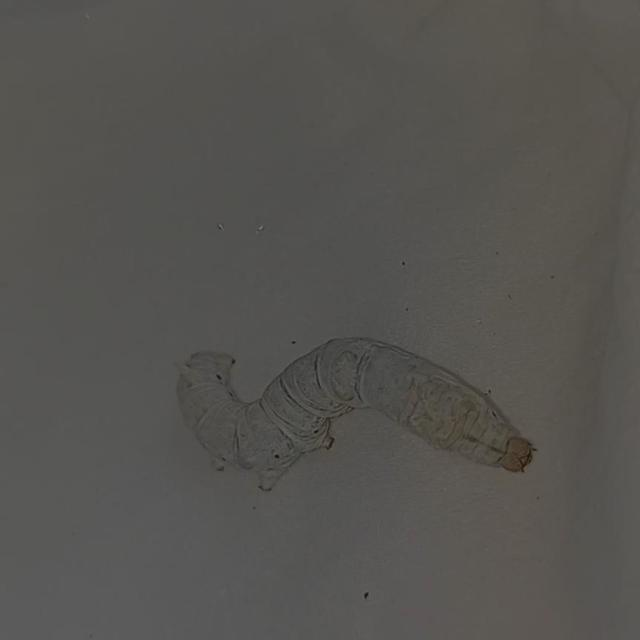Healthy: (166, 317, 562, 506)
